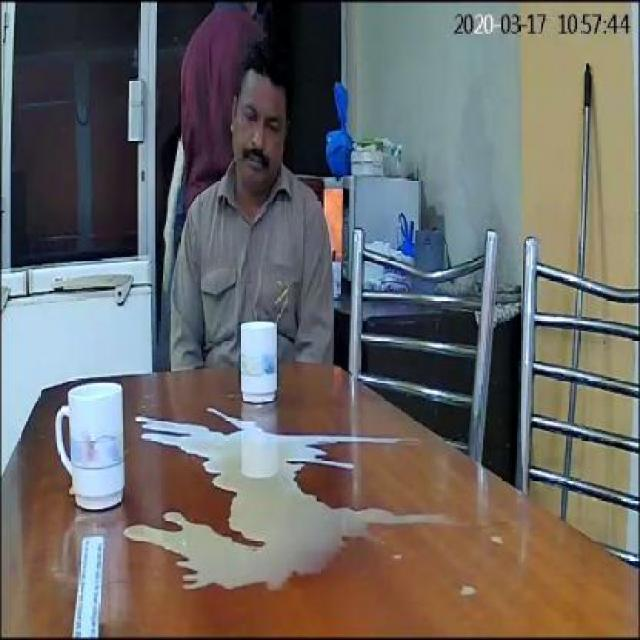spill: (118, 478, 456, 594)
